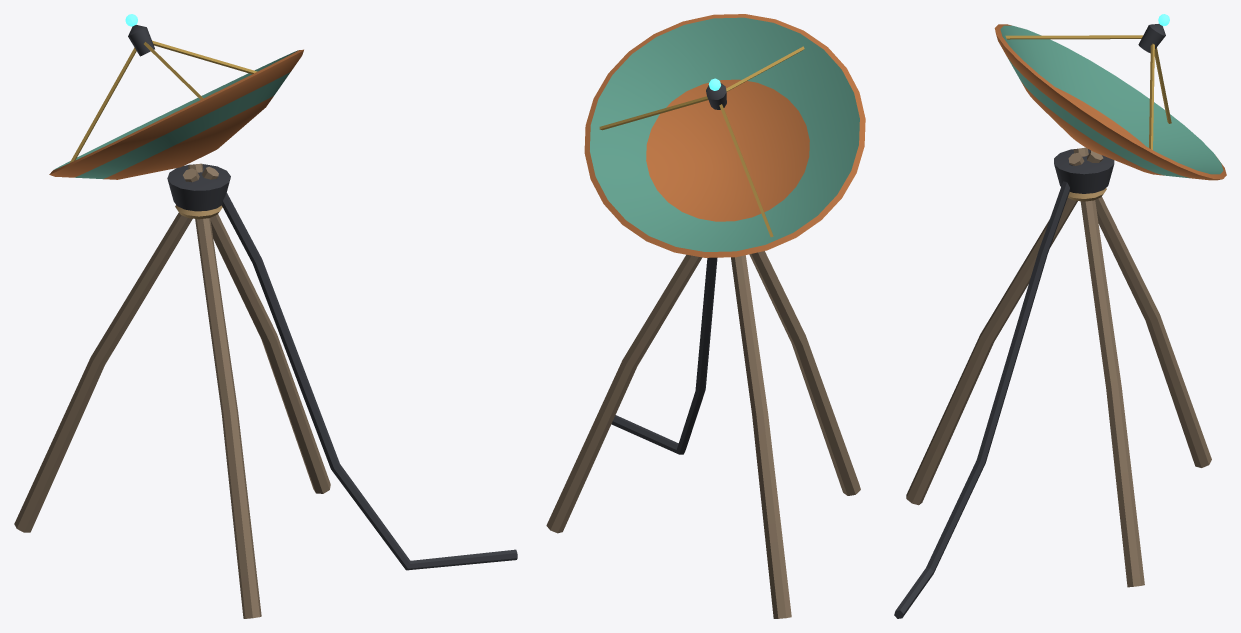
The model's file is deco_signal_dish.fbx.
3 views of the same model, side by side, from view 1: azimuth 30°, elevation 25°; view 2: azimuth 150°, elevation 25°; view 3: azimuth 270°, elevation 25° (orthographic). The views are drawn at different scales.
Visible parts, largest first — view 1: SignalDish_Tripod, SignalDish_Dish, SignalDish_Cable, SignalDish_Mount; view 2: SignalDish_Dish, SignalDish_Tripod, SignalDish_Cable; view 3: SignalDish_Tripod, SignalDish_Dish, SignalDish_Cable, SignalDish_Mount.
Boxes of the visible parts, x1,y1,x2,y2 form: SignalDish_Tripod: (14,163,330,618); SignalDish_Dish: (49,14,303,179); SignalDish_Cable: (216,176,517,570); SignalDish_Mount: (167,164,230,211); SignalDish_Dish: (584,14,865,257); SignalDish_Tripod: (546,251,860,618); SignalDish_Cable: (611,257,717,454); SignalDish_Tripod: (906,147,1211,587); SignalDish_Dish: (994,14,1226,180); SignalDish_Cable: (894,164,1073,618); SignalDish_Mount: (1054,149,1114,193).
Bounding box in the file's own units: 191 × 264 × 162.
